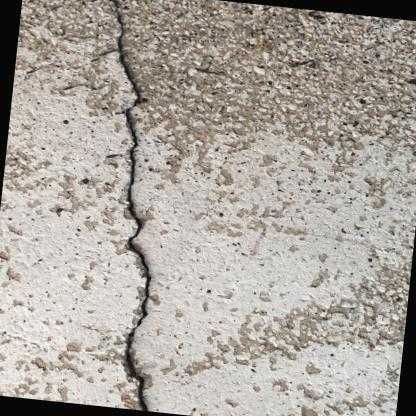crack: (108, 0, 150, 411)
